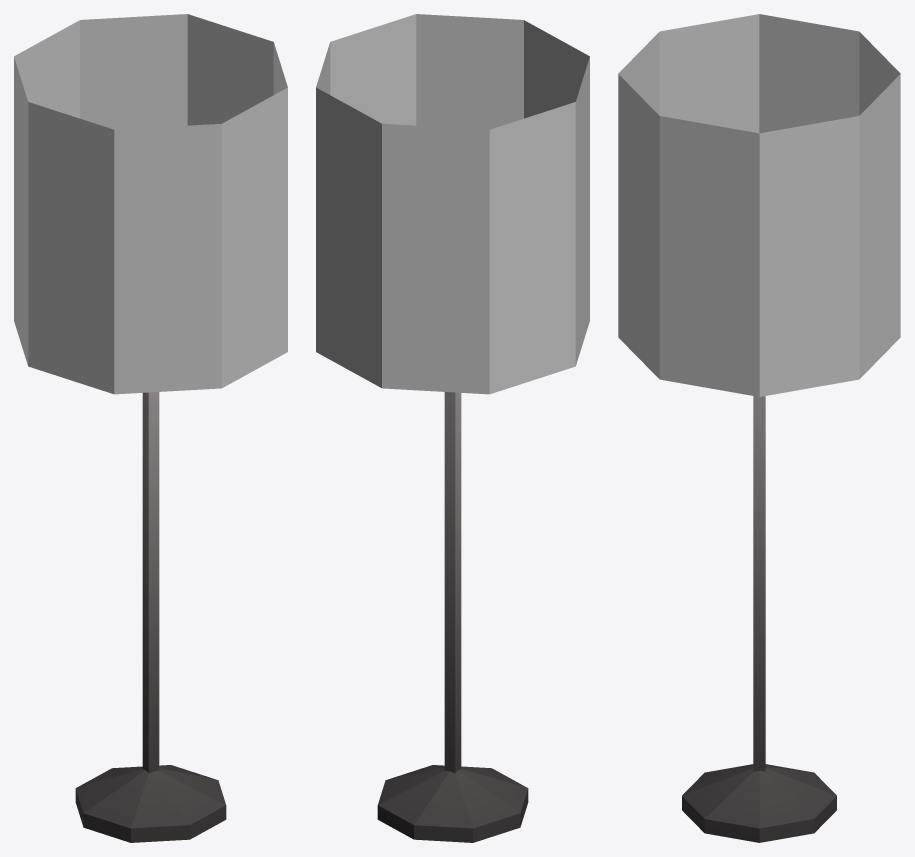
File: Lamp_009.fbx
3 renders of one model, left to right at view 1: azimuth 30°, elevation 25°; view 2: azimuth 150°, elevation 25°; view 3: azimuth 270°, elevation 25°, orthographic.
Parts seen in each view (by area): view 1: Lamp_009; view 2: Lamp_009; view 3: Lamp_009.
Boxes of the visible parts, bbox=[...] form: Lamp_009: bbox=[14, 14, 287, 842]; Lamp_009: bbox=[316, 14, 589, 842]; Lamp_009: bbox=[618, 14, 900, 842].
Bounding box in the file's own units: 54.41 × 157 × 54.41.
